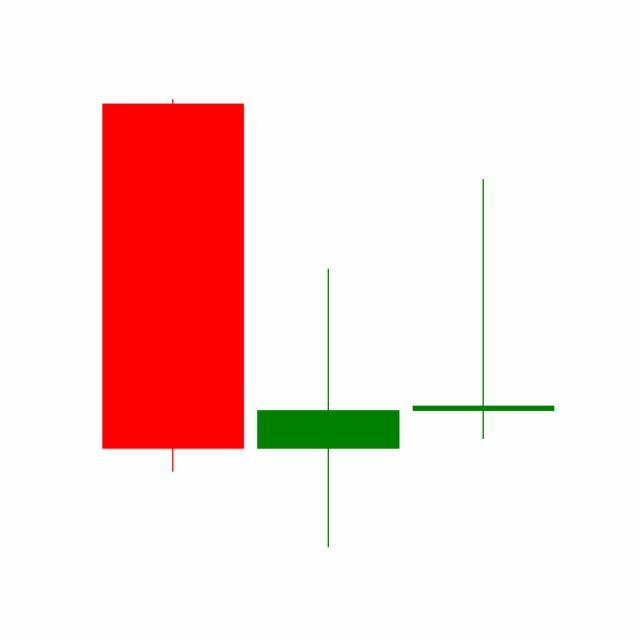Spinning Top: (250, 266, 407, 551)
